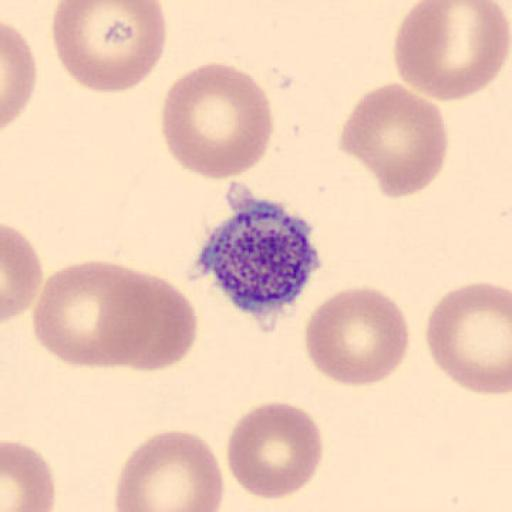Platelet: (193, 198, 326, 321)
RBC: (160, 60, 274, 180), (31, 258, 152, 370), (338, 81, 450, 200), (394, 1, 512, 102), (50, 0, 168, 95), (304, 286, 412, 388), (97, 264, 199, 372), (424, 280, 512, 398), (225, 400, 325, 501), (113, 429, 225, 512), (2, 220, 42, 324), (1, 438, 56, 512), (2, 20, 38, 132)
